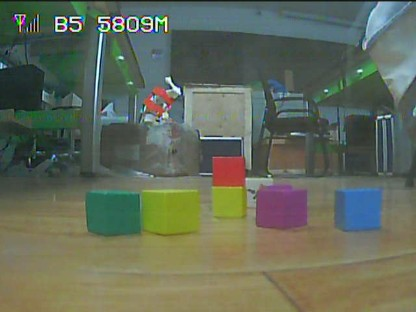b: (335, 188, 379, 226)
g: (86, 191, 138, 232)
r: (214, 158, 242, 185)
